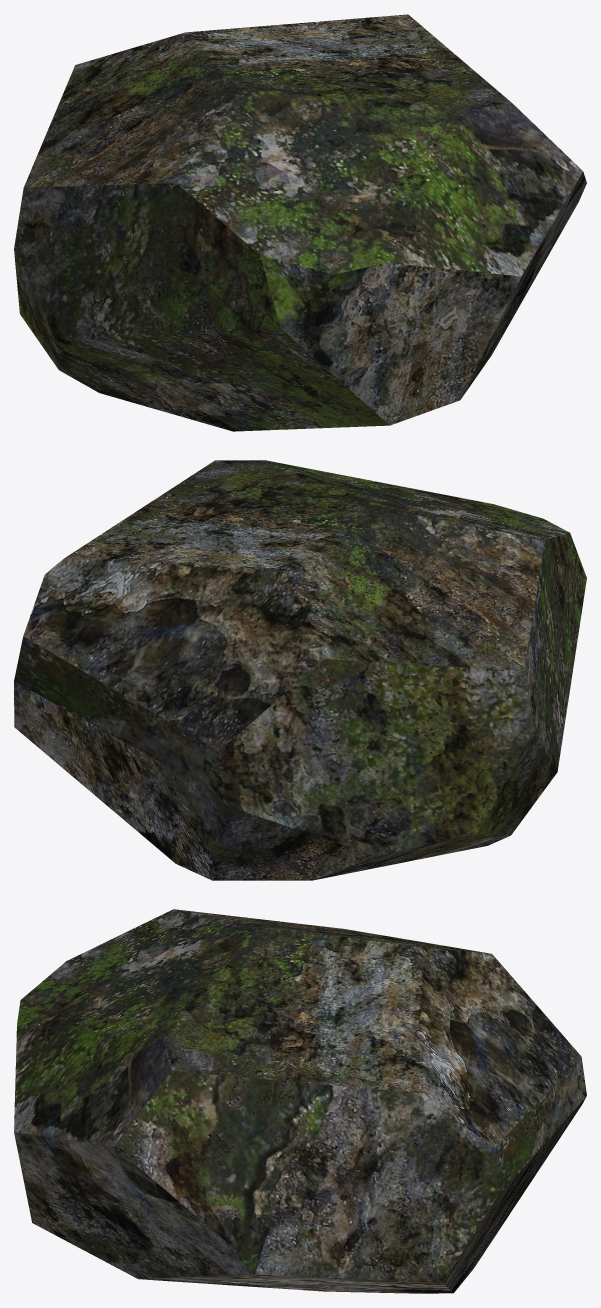
The model's file is Stone1.3.obj.
3 renders of one model, top to bottom at view 1: azimuth 30°, elevation 25°; view 2: azimuth 150°, elevation 25°; view 3: azimuth 270°, elevation 25°, orthographic.
Visible parts, largest first — view 1: Stone1.3_Cube.002; view 2: Stone1.3_Cube.002; view 3: Stone1.3_Cube.002.
Boxes of the visible parts, x1=… form: Stone1.3_Cube.002: x1=14, y1=14, x2=586, y2=431; Stone1.3_Cube.002: x1=14, y1=460, x2=586, y2=880; Stone1.3_Cube.002: x1=14, y1=909, x2=586, y2=1293.
Bounding box in the file's own units: 2.54 × 1.55 × 2.48.
1 material, 1 textured.
